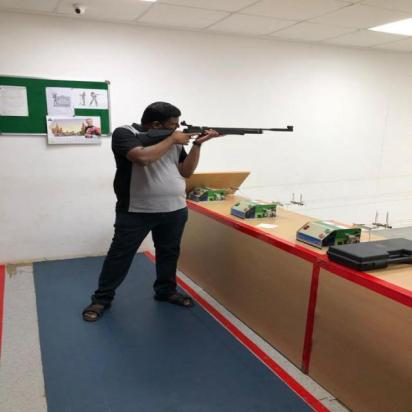Gun: (134, 120, 296, 147)
